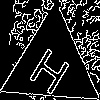H: (27, 39, 77, 97)
